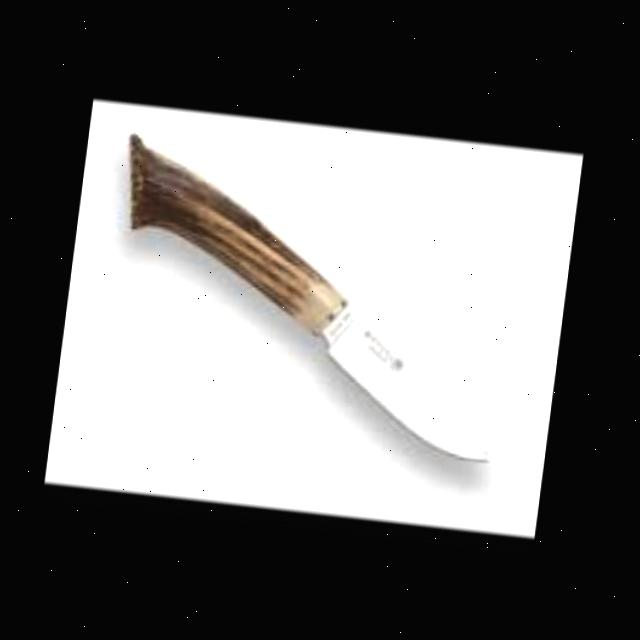Knife: (95, 129, 529, 462)
